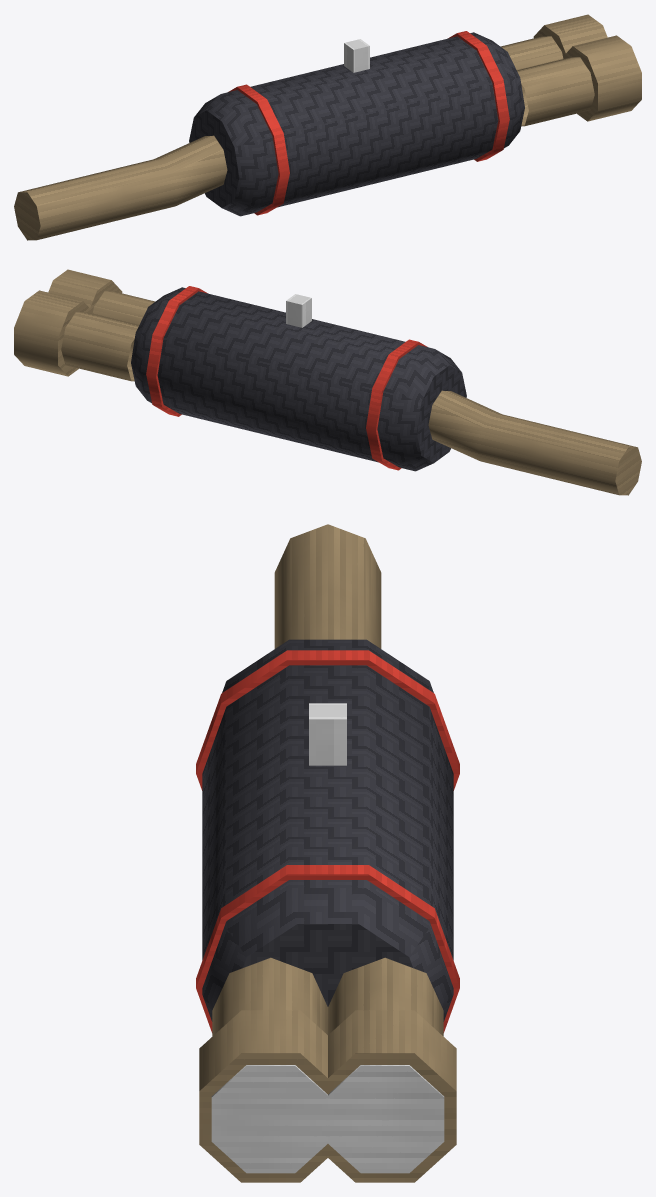
File: escape_n4.glb
3 renders of one model, top to bottom at view 1: azimuth 30°, elevation 25°; view 2: azimuth 150°, elevation 25°; view 3: azimuth 270°, elevation 25°, orthographic. The views are drawn at different scales.
Visible parts, largest first — view 1: escape_n4; view 2: escape_n4; view 3: escape_n4.
Part boxes in pixels (bbox=[...]): escape_n4: bbox=[14, 14, 641, 240]; escape_n4: bbox=[14, 269, 641, 495]; escape_n4: bbox=[196, 524, 459, 1182].
Bounding box in the file's own units: 1.06 × 0.2379 × 0.208.
Materials: 4 (4 with a texture image).
